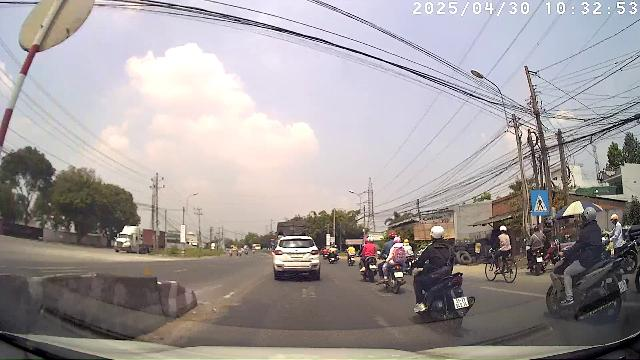423a-duong-nguoi-di-bo-sang-ngang-1: (532, 190, 548, 214)
